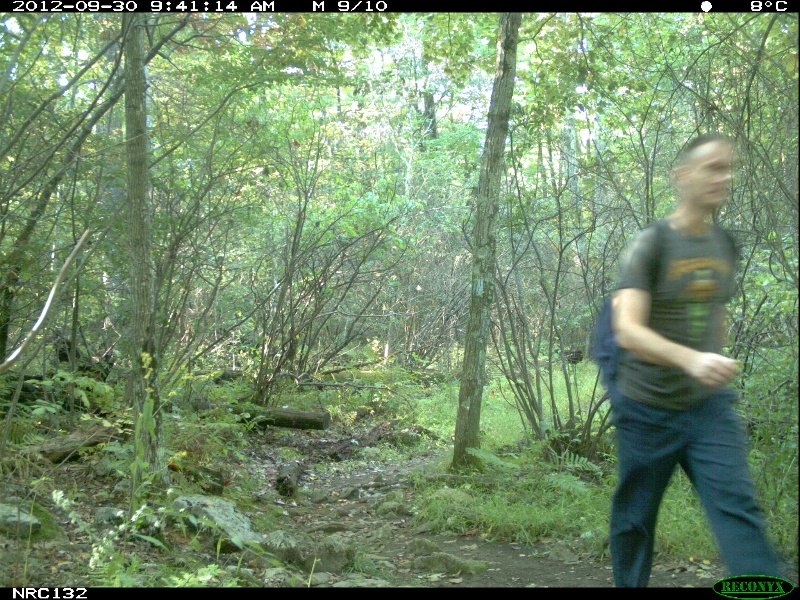human: (599, 136, 783, 590)
human face: (676, 141, 738, 213)
human legs: (601, 387, 783, 591)
